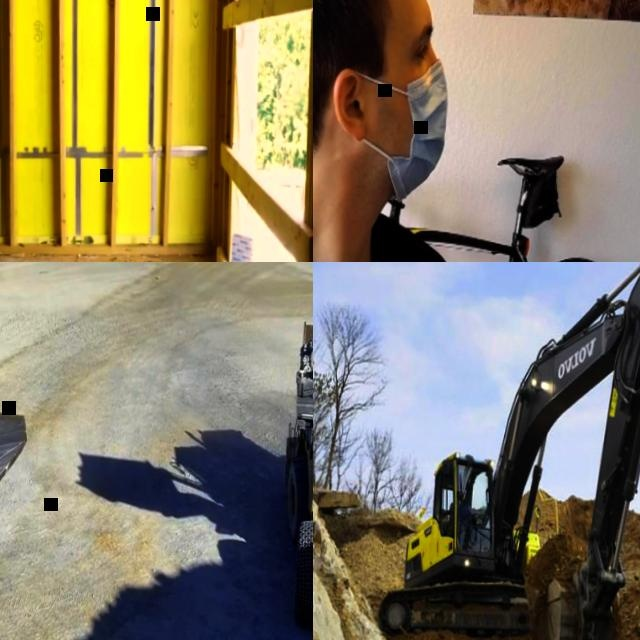Mask: (355, 57, 450, 211)
Person: (313, 0, 517, 262), (448, 492, 465, 525)
machinery: (373, 262, 640, 640), (279, 314, 313, 640)
